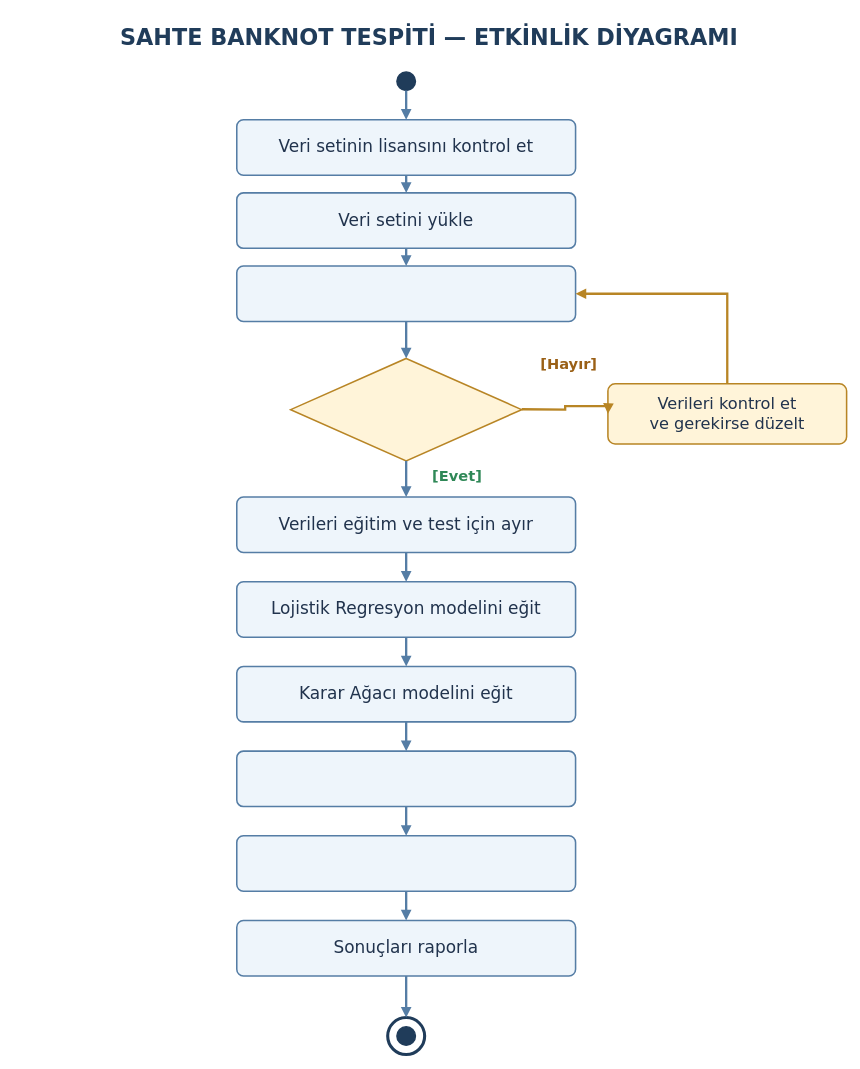
The diagram is 860 pixels wide and 1069 high, and some of its shapes have lost their labels. Each missing label, with the centre of its shape:
Eğitilen modelleri test et: (x=406, y=778)
Test sonuçlarını karşılaştır: (x=406, y=863)
Veri setini incele ve hazırla: (x=406, y=293)
Veriler kullanıma uygun mu?: (x=406, y=409)
